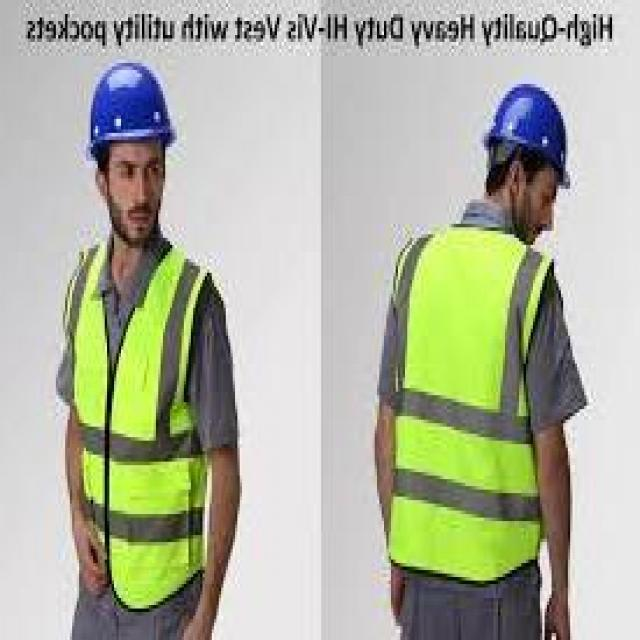Reflective-Jacket: (372, 224, 568, 587), (58, 234, 228, 612)
Safety-Helmet: (472, 74, 582, 200), (77, 52, 186, 164)
